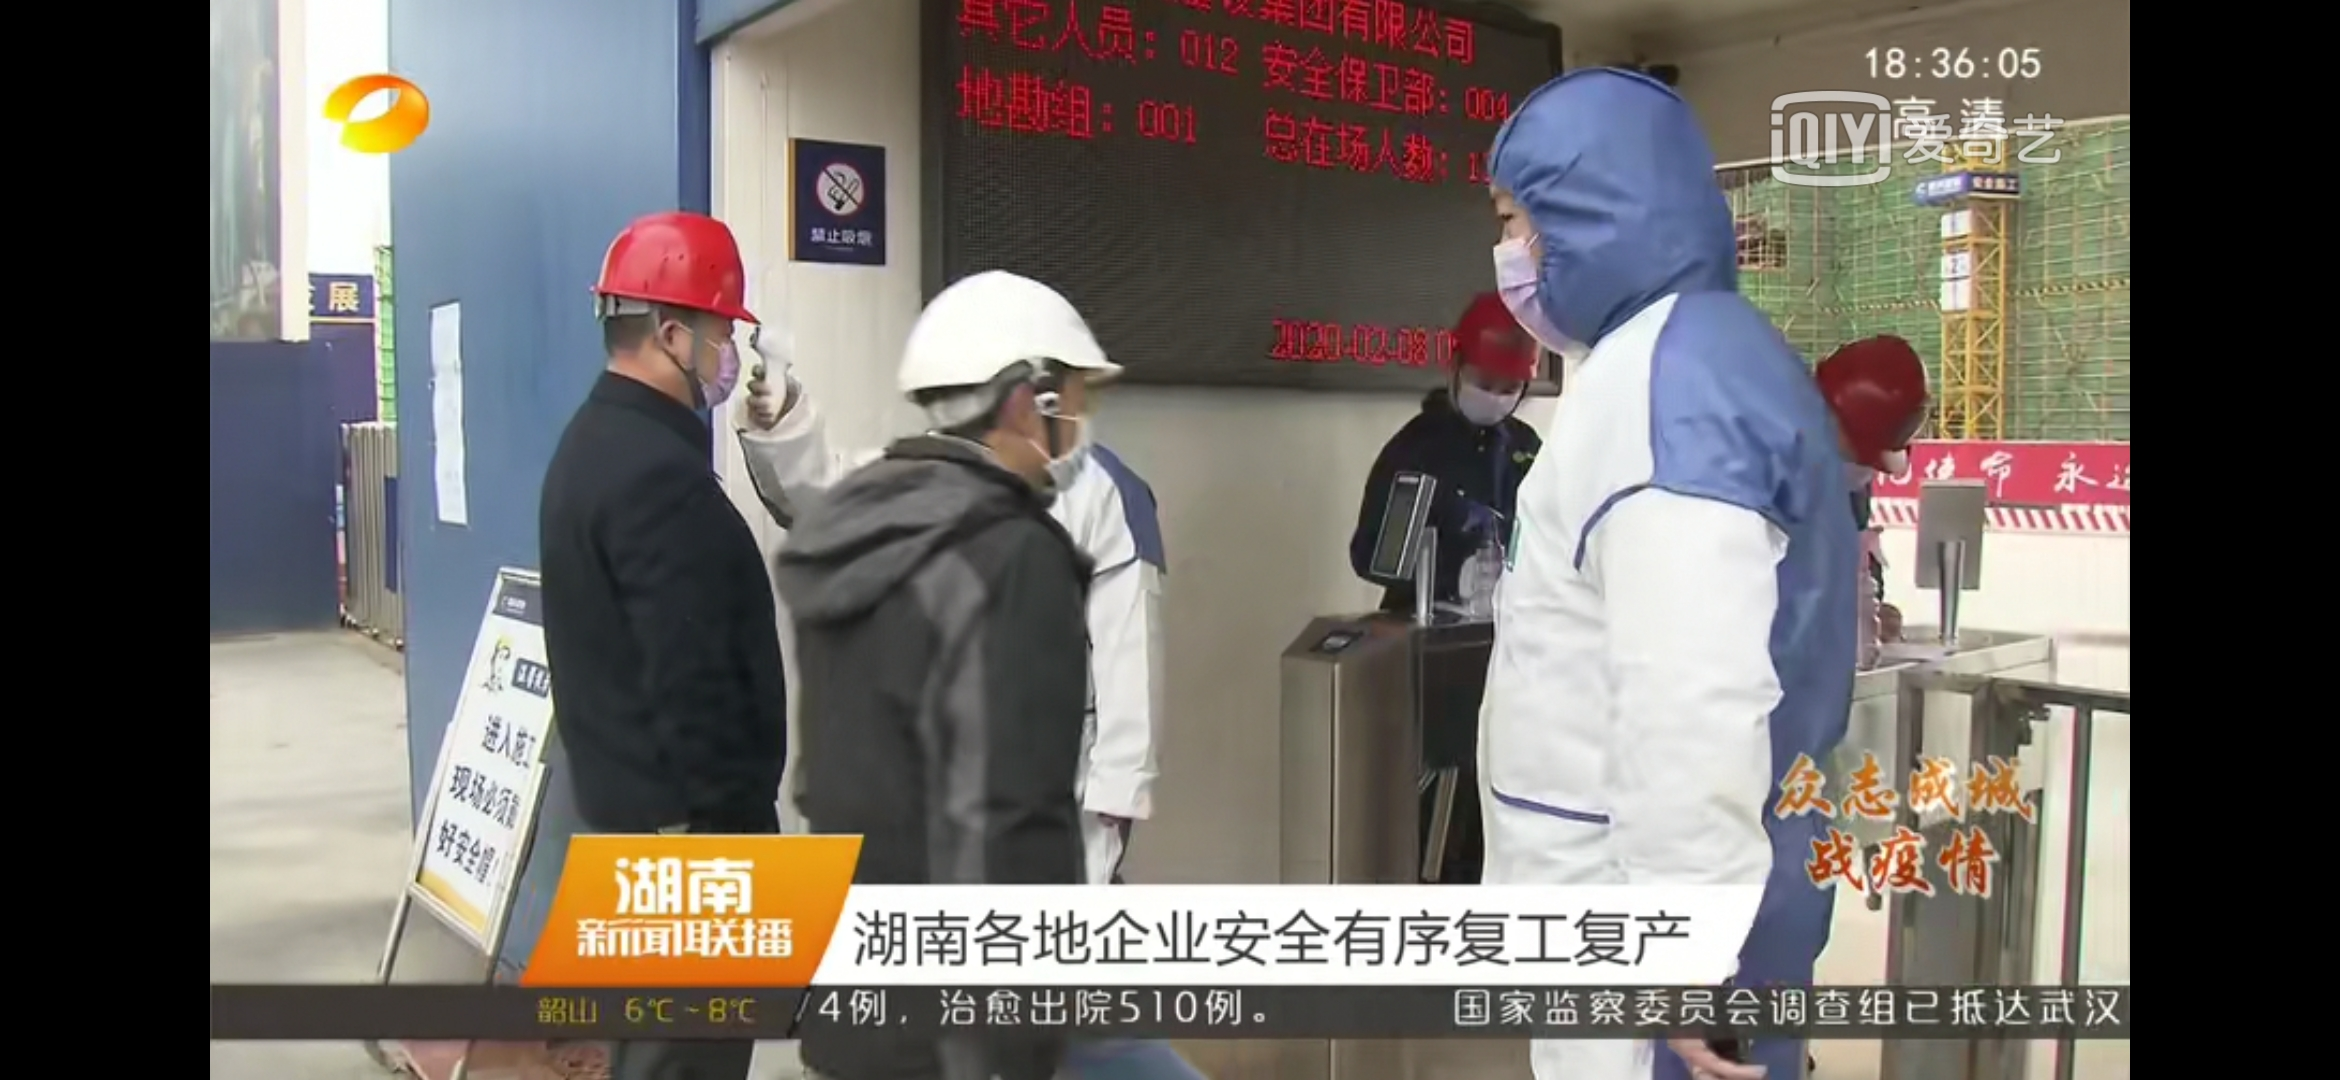correctlyWear: (1489, 173, 1604, 336), (654, 258, 742, 415), (1010, 367, 1095, 503), (1442, 327, 1528, 434)
